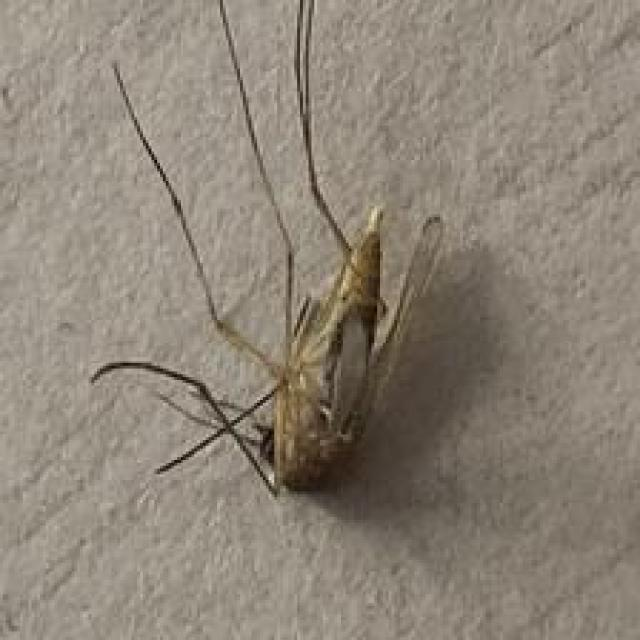Culex: (89, 0, 448, 500)
